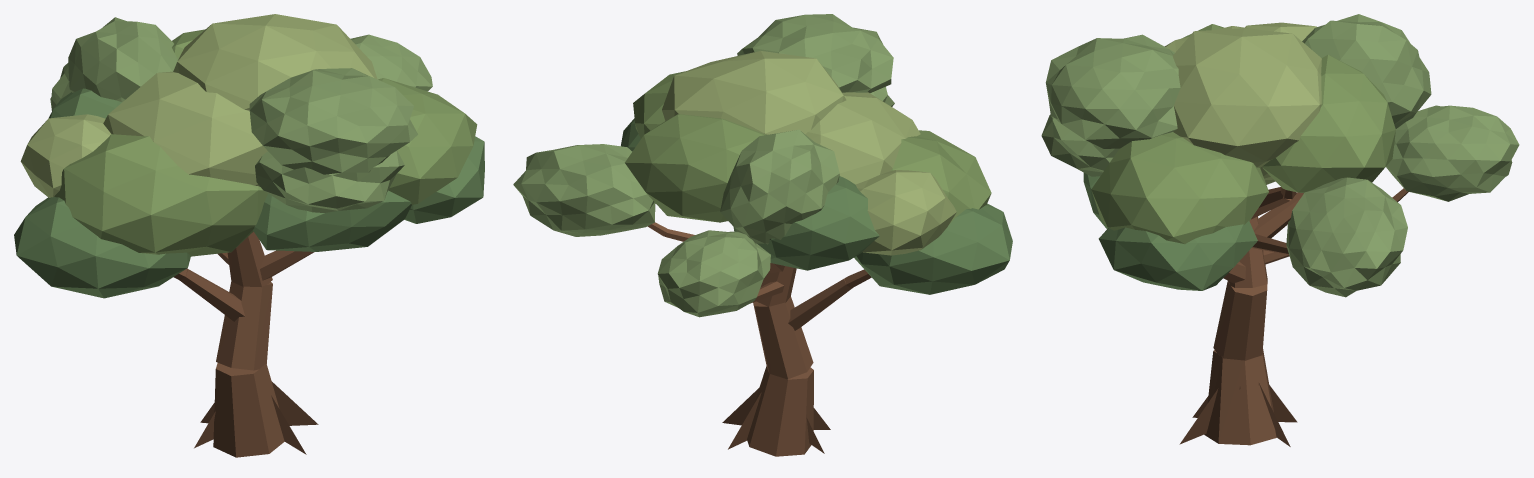
Rendered from oak_3.glb.
3 renders of one model, left to right at view 1: azimuth 30°, elevation 25°; view 2: azimuth 150°, elevation 25°; view 3: azimuth 270°, elevation 25°, orthographic. The views are drawn at different scales.
Visible parts, largest first — view 1: foliage-1, foliage-0, foliage-2, surface; view 2: foliage-1, foliage-0, foliage-2, surface; view 3: foliage-1, foliage-2, foliage-0, surface.
Boxes of the visible parts, left/top/right/bottom form: foliage-1: left=54, top=29, right=477, bottom=256; foliage-0: left=14, top=14, right=404, bottom=298; foliage-2: left=50, top=17, right=484, bottom=251; surface: left=173, top=231, right=318, bottom=457; foliage-1: left=513, top=14, right=991, bottom=236; foliage-0: left=662, top=50, right=1012, bottom=294; foliage-2: left=621, top=92, right=920, bottom=317; surface: left=648, top=222, right=871, bottom=456; foliage-1: left=1045, top=24, right=1407, bottom=297; foliage-2: left=1083, top=14, right=1519, bottom=290; foliage-0: left=1041, top=22, right=1321, bottom=176; surface: left=1179, top=187, right=1408, bottom=446.
Size of the model in its own units: 6.59 by 5.56 by 5.9.
